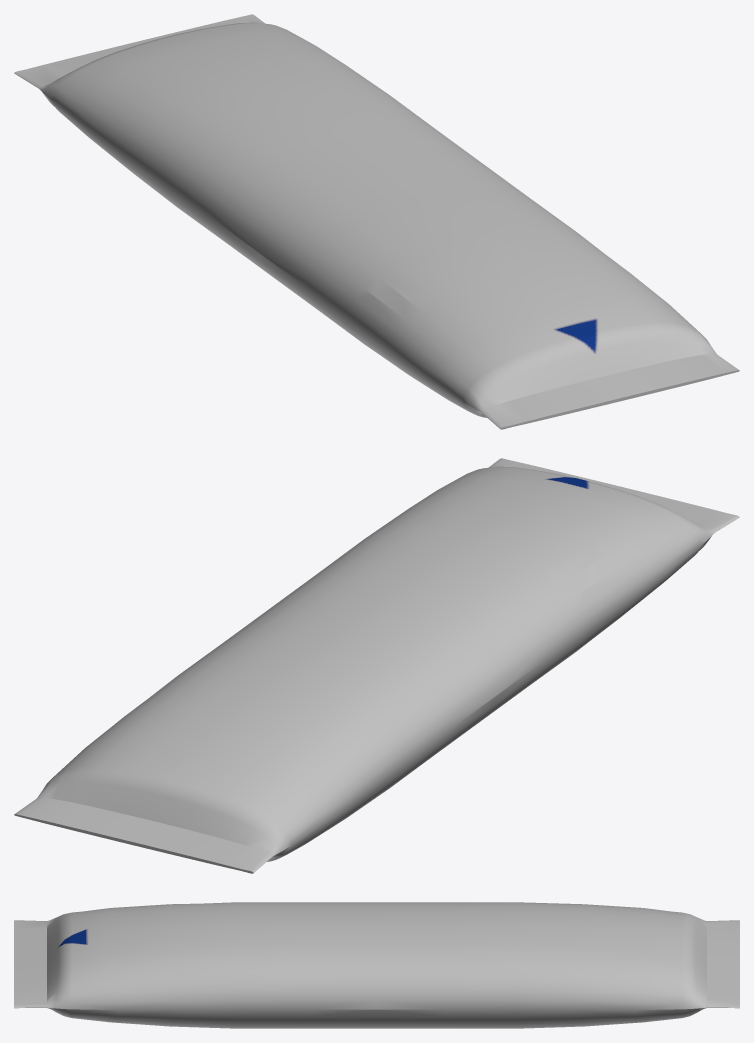
Rendered from Vobomtiem.fbx.
3 renders of one model, top to bottom at view 1: azimuth 30°, elevation 25°; view 2: azimuth 150°, elevation 25°; view 3: azimuth 270°, elevation 25°, orthographic. The views are drawn at different scales.
Parts seen in each view (by area): view 1: Vobomtiem; view 2: Vobomtiem; view 3: Vobomtiem.
Boxes of the visible parts, x1,y1,x2,y2 form: Vobomtiem: (14, 14, 739, 429); Vobomtiem: (14, 458, 739, 873); Vobomtiem: (14, 902, 739, 1028).
Bounding box in the file's own units: 5.87 × 2.5 × 20.12.
Materials: 1 (1 with a texture image).
